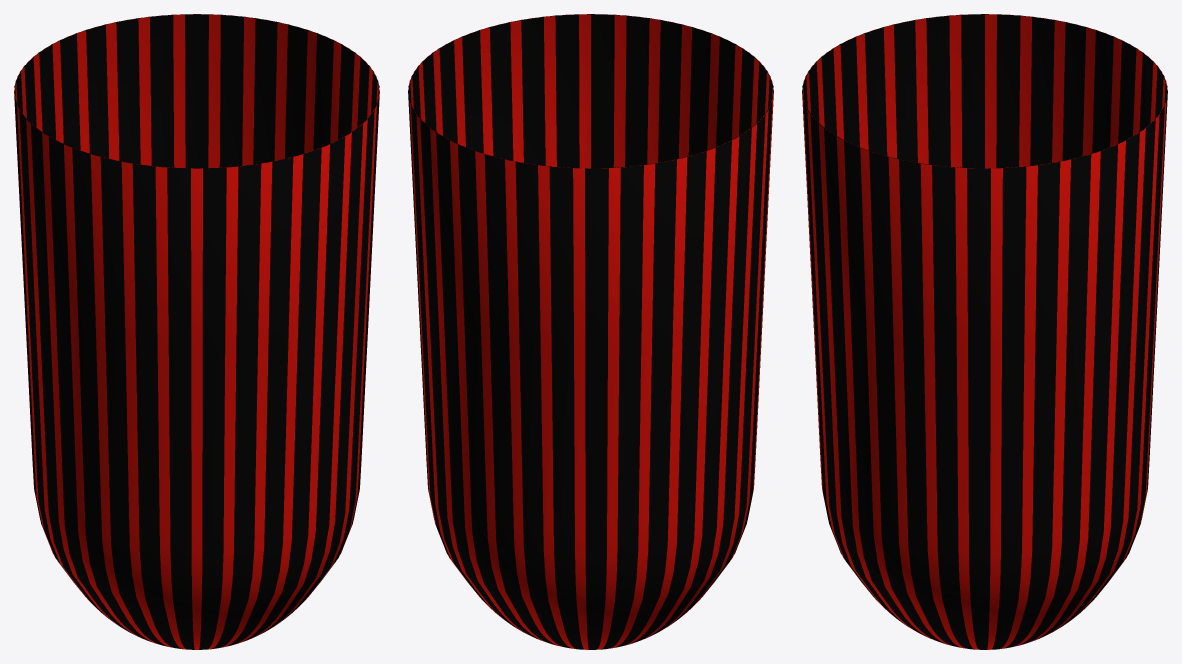
Rendered from p_mesh_plasmadrill_diameter_glow01.fbx.
3 views of the same model, side by side, from view 1: azimuth 30°, elevation 25°; view 2: azimuth 150°, elevation 25°; view 3: azimuth 270°, elevation 25° (orthographic).
Parts seen in each view (by area): view 1: plasmadrill_diameter_glow01; view 2: plasmadrill_diameter_glow01; view 3: plasmadrill_diameter_glow01.
Part boxes in pixels (<box>): plasmadrill_diameter_glow01: <box>14,14,379,649</box>; plasmadrill_diameter_glow01: <box>408,14,773,649</box>; plasmadrill_diameter_glow01: <box>802,14,1167,649</box>.
Bounding box in the file's own units: 13.79 × 22.36 × 13.79.
Materials: 3 (2 with a texture image).
